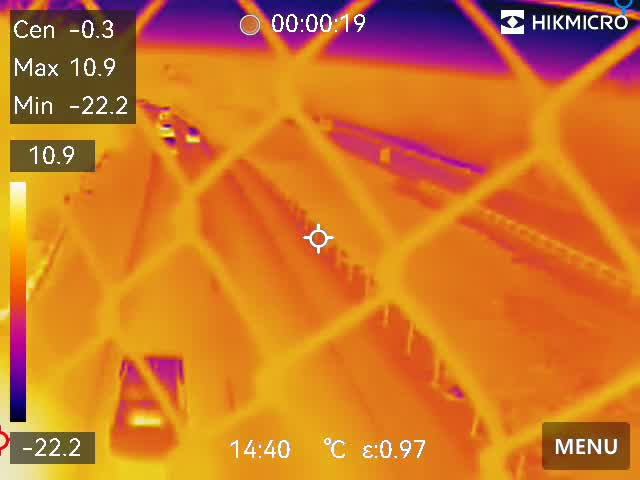vehicle: (118, 352, 192, 458), (184, 124, 203, 149), (157, 122, 175, 140), (160, 105, 172, 118)
